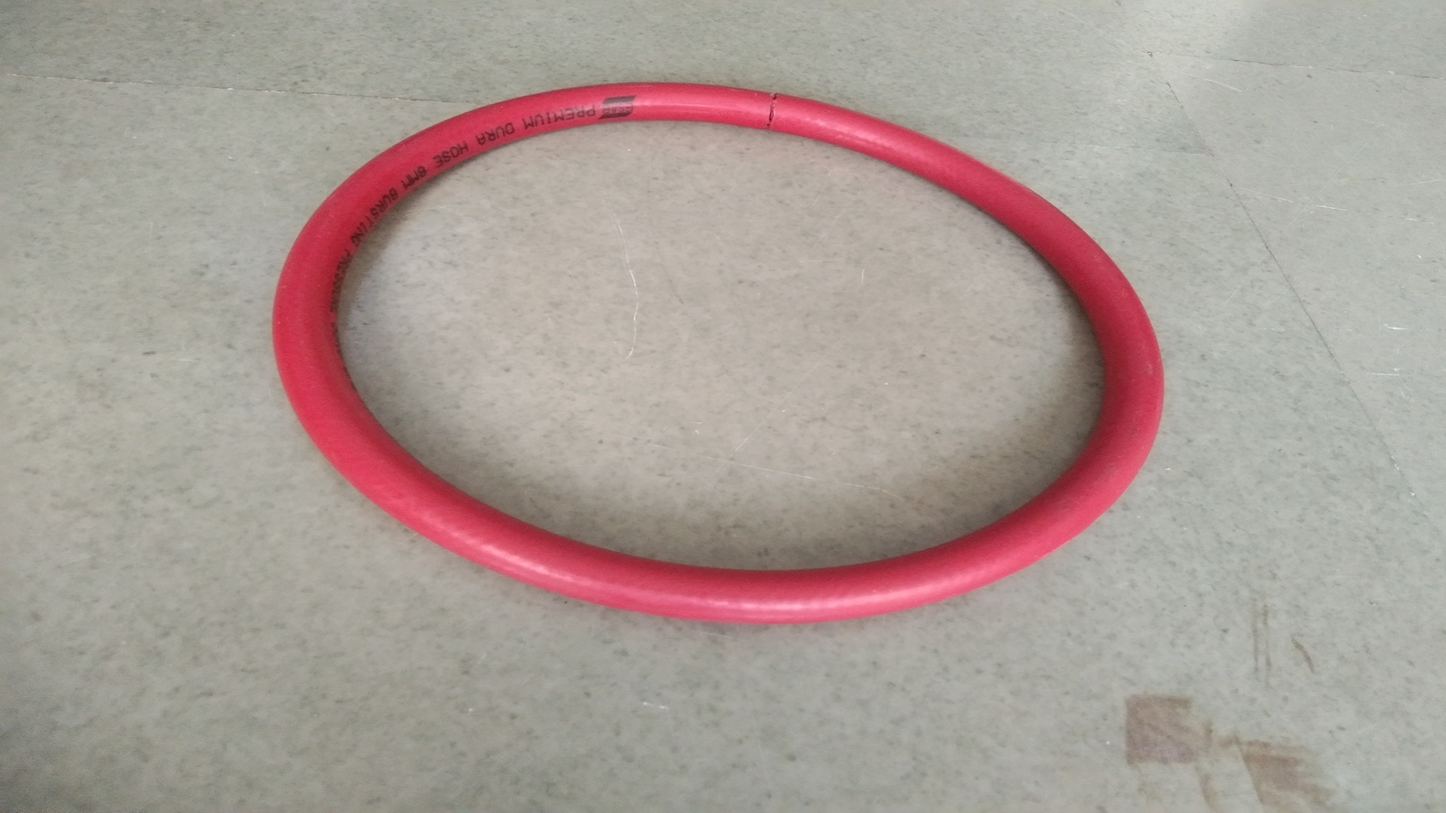Red ring: (278, 85, 1163, 617)
